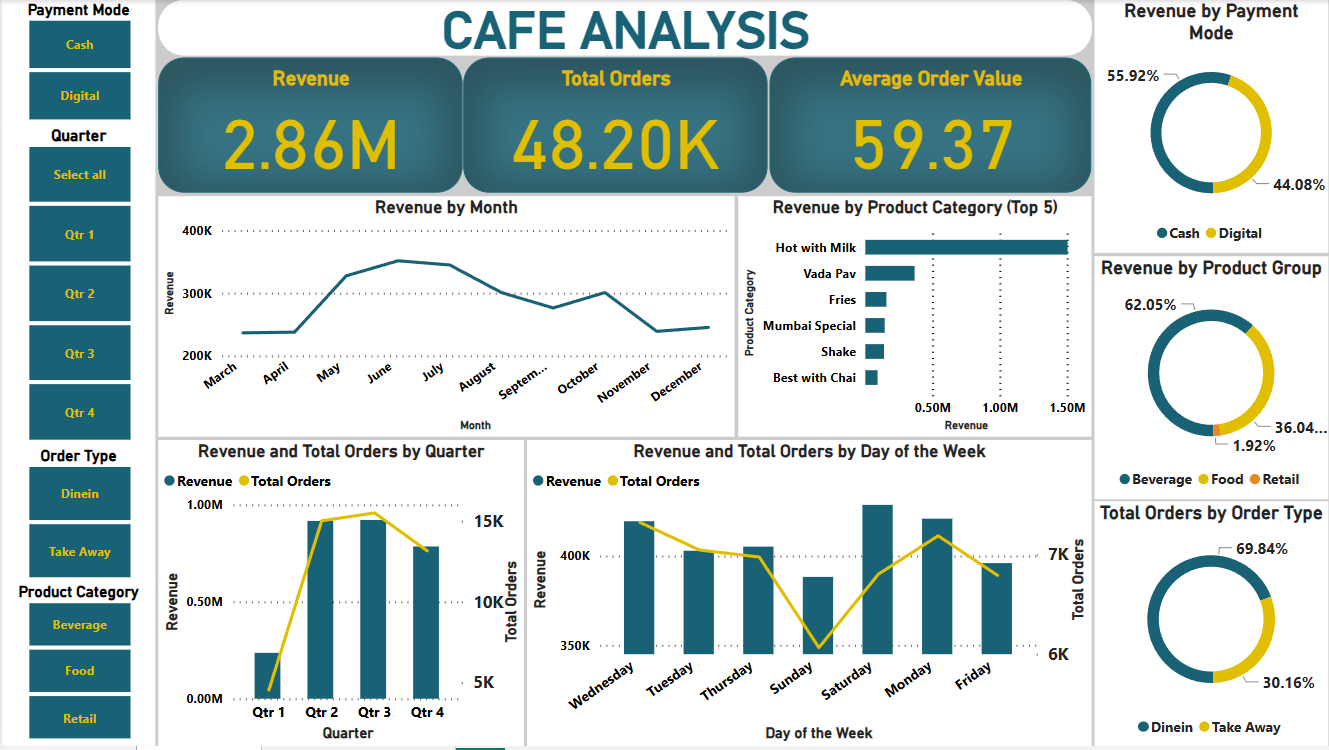

Layout of this report page (visuals, bound fields, positions):
{"tool":"powerbi","page":{"name":"Dashboard","canvas":[1280,720],"ordinal":0},"visuals":[{"type":"card","title":"Revenue","fields":{"Values":["Sales Data.Revenue"]},"box":[150.4,55,293.4,130.8],"z":0},{"type":"textbox","title":"CAFE ANALYSIS","box":[150.4,0,900.9,53.8],"z":1000},{"type":"card","title":"Total Orders","fields":{"Values":["Sales Data.Total Orders"]},"box":[445,55,293.4,130],"z":2000},{"type":"card","title":"Average Order Value","fields":{"Values":["Sales Data.Atp"]},"box":[740.8,55,310.5,130.8],"z":3000},{"type":"donutChart","fields":{"Category":["Sales Data.Payment Mode"],"Y":["Sales Data.Revenue"]},"box":[1054.1,0,225.5,244],"z":4000},{"type":"donutChart","title":"Revenue by Product Group","fields":{"Y":["Sum(Sheet 1.Total Amount)"],"Category":["Sheet 1.Product Group"]},"box":[1054.1,247.2,225.5,234],"z":5000},{"type":"donutChart","fields":{"Y":["Sales Data.Total Orders"],"Category":["Sales Data.Order Type"]},"box":[1054.1,483.6,225.5,236.4],"z":6000},{"type":"lineStackedColumnComboChart","fields":{"Y":["Sales Data.Revenue"],"Y2":["Sales Data.Total Orders"],"Category":["Sales Data.Order Date.Variation.Date Hierarchy.Quarter"]},"box":[150.8,424.5,353,295.5],"z":7000},{"type":"lineChart","fields":{"Category":["Sales Data.Order Date.Variation.Date Hierarchy.Month"],"Y":["Sales Data.Revenue"]},"box":[150.8,189.3,556,232],"z":8000},{"type":"slicer","title":"Payment Mode","fields":{"Values":["Sales Data.Payment Mode"]},"box":[0,0,147.9,122.2],"z":9000},{"type":"slicer","title":"Quarter","fields":{"Values":["Sales Data.Order Date.Variation.Date Hierarchy.Quarter"]},"box":[0,122.2,147.9,309.3],"z":10000},{"type":"slicer","title":"Order Type","fields":{"Values":["Sales Data.Order Type"]},"box":[0,430.3,147.9,133.2],"z":11000},{"type":"slicer","title":"Product Category","fields":{"Values":["Sheet 1.Product Group"]},"box":[0,562.3,147.9,157.7],"z":12000},{"type":"barChart","title":"Revenue by Product Category (Top 5)","fields":{"Category":["Sheet 1.Product Category"],"Y":["Sum(Sheet 1.Total Amount)"]},"box":[710.4,189.3,341,232],"z":13000},{"type":"lineStackedColumnComboChart","fields":{"Category":["Sales Data.Day of the Week"],"Y":["Sales Data.Revenue"],"Y2":["Sales Data.Total Orders"]},"box":[506.5,424.5,545,295.5],"z":14000}]}

Visuals, with their boxes in screenshot pixels (x1, y1, x2, y2), scaled from the page's 1280x720 canvas onto the 1329x750 screenshot:
"Revenue" card: bbox=(156, 57, 461, 194)
"CAFE ANALYSIS" textbox: bbox=(156, 0, 1092, 56)
"Total Orders" card: bbox=(462, 57, 767, 193)
"Average Order Value" card: bbox=(769, 57, 1092, 194)
donutChart - Sales Data.Payment Mode x Sales Data.Revenue: bbox=(1094, 0, 1328, 254)
"Revenue by Product Group" donutChart: bbox=(1094, 258, 1328, 501)
donutChart - Sales Data.Total Orders x Sales Data.Order Type: bbox=(1094, 504, 1328, 749)
lineStackedColumnComboChart - Sales Data.Revenue x Sales Data.Total Orders: bbox=(157, 442, 523, 749)
lineChart - Sales Data.Order Date.Variation.Date Hierarchy.Month x Sales Data.Revenue: bbox=(157, 197, 734, 439)
"Payment Mode" slicer: bbox=(0, 0, 154, 127)
"Quarter" slicer: bbox=(0, 127, 154, 449)
"Order Type" slicer: bbox=(0, 448, 154, 587)
"Product Category" slicer: bbox=(0, 586, 154, 749)
"Revenue by Product Category (Top 5)" barChart: bbox=(738, 197, 1092, 439)
lineStackedColumnComboChart - Sales Data.Day of the Week x Sales Data.Revenue: bbox=(526, 442, 1092, 749)
